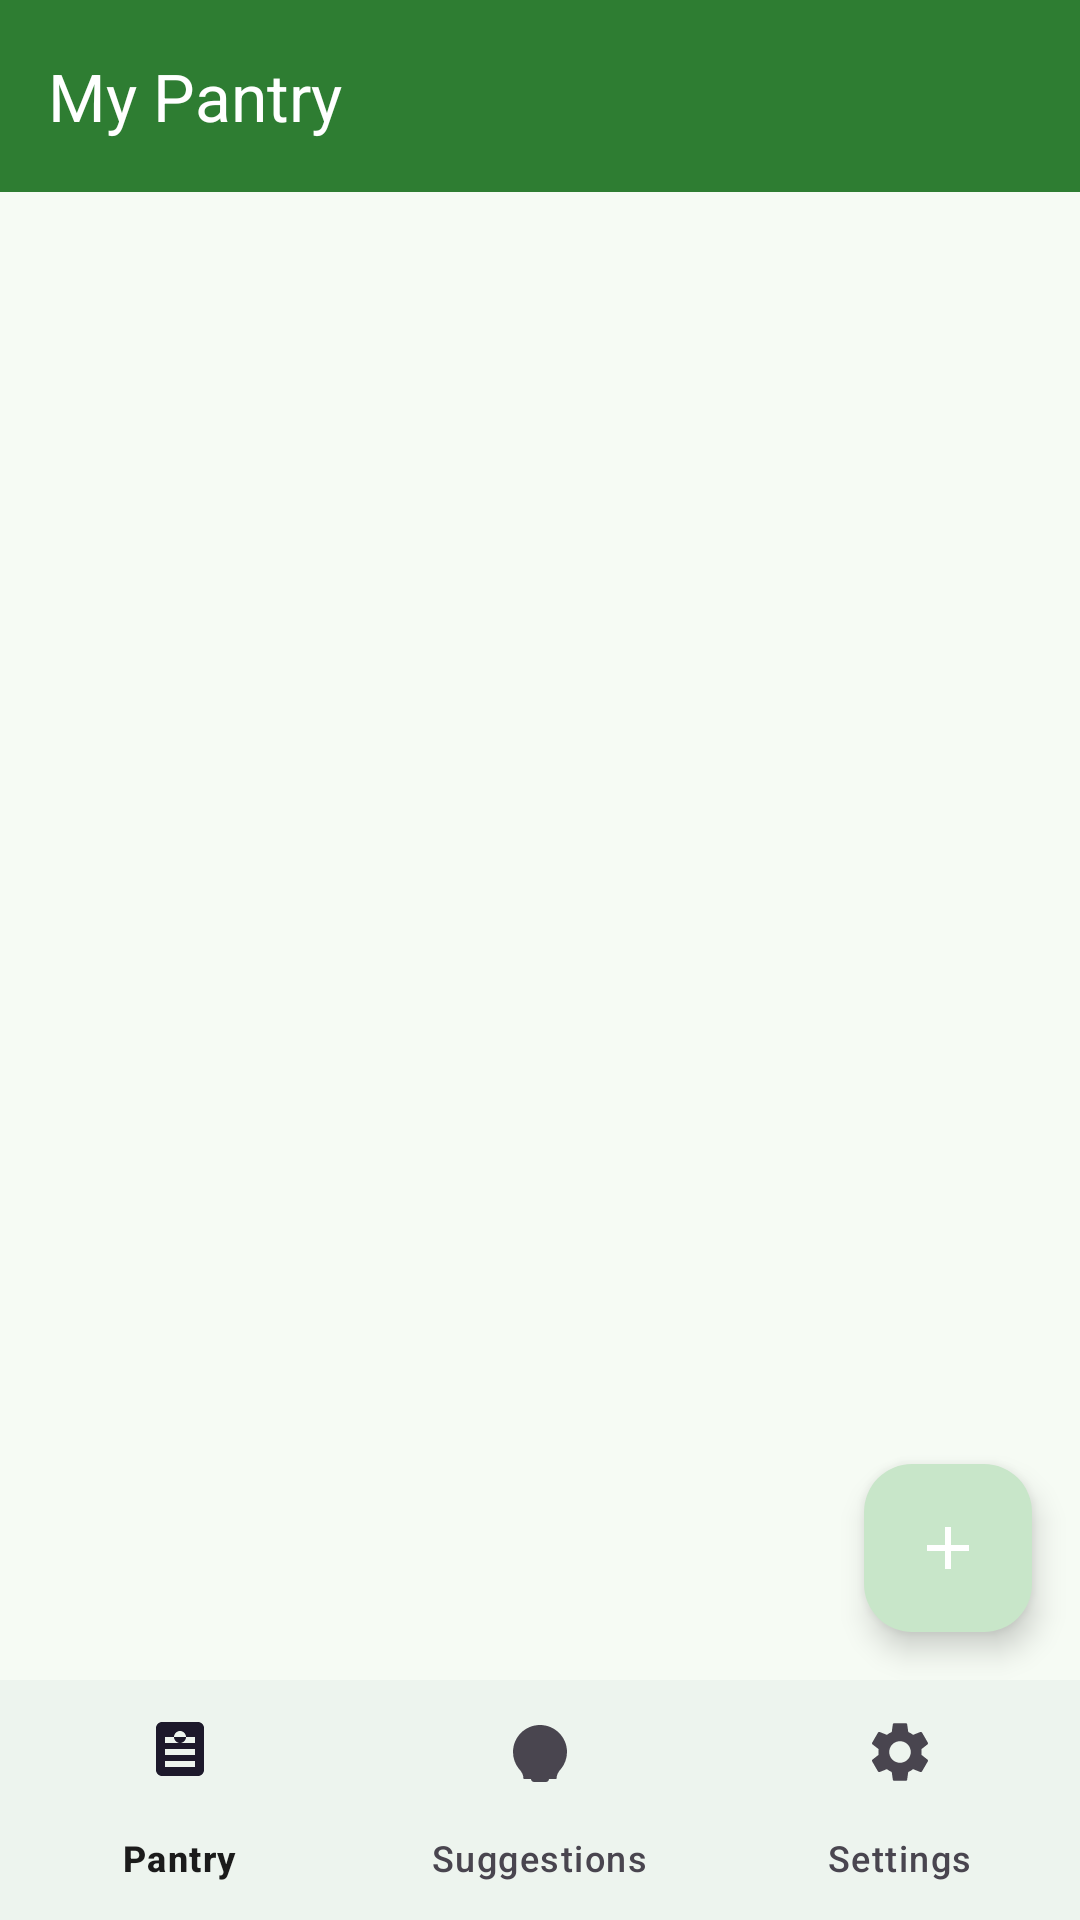

Icon bounding boxes for this 1080px×1920px phone screenshot, format (x1=x1, y1=y1, x2=x2, y2=y2):
Add ingredient: (x1=864, y1=1464, x2=1032, y2=1632)
